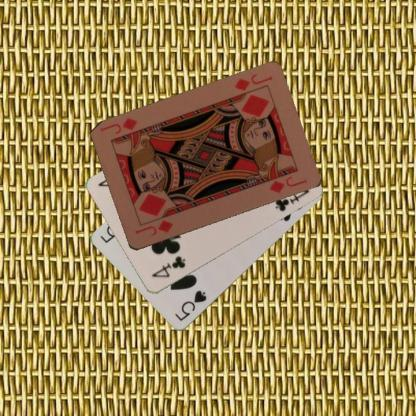4c: (149, 253, 187, 279)
5s: (172, 288, 208, 323)
Jd: (232, 71, 275, 93), (132, 218, 174, 238)
